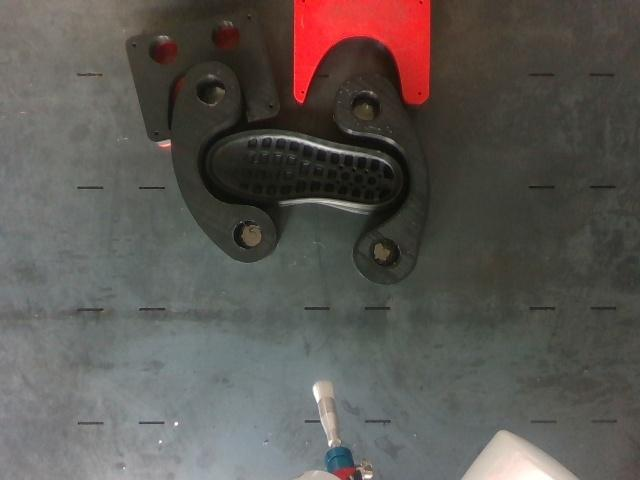shoes: (206, 131, 402, 205)
